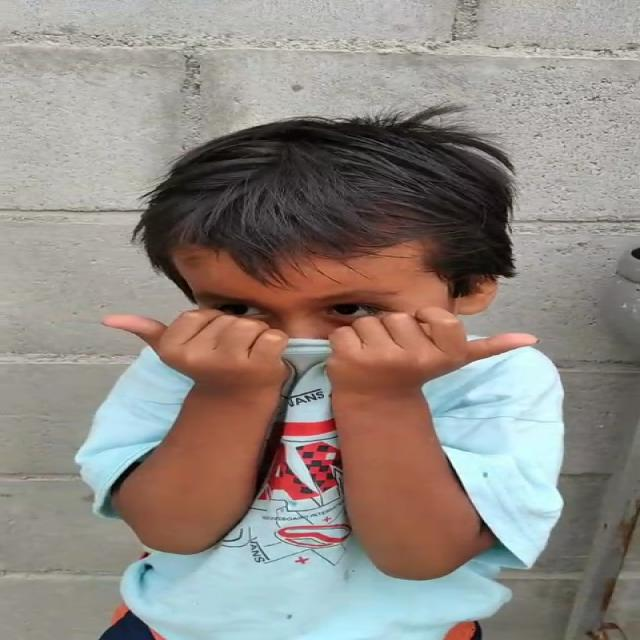8_ropa_rostro: (171, 319, 455, 437)
